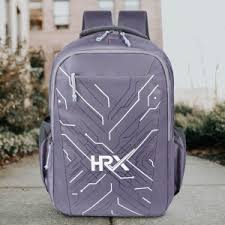backpack: (38, 9, 186, 217)
